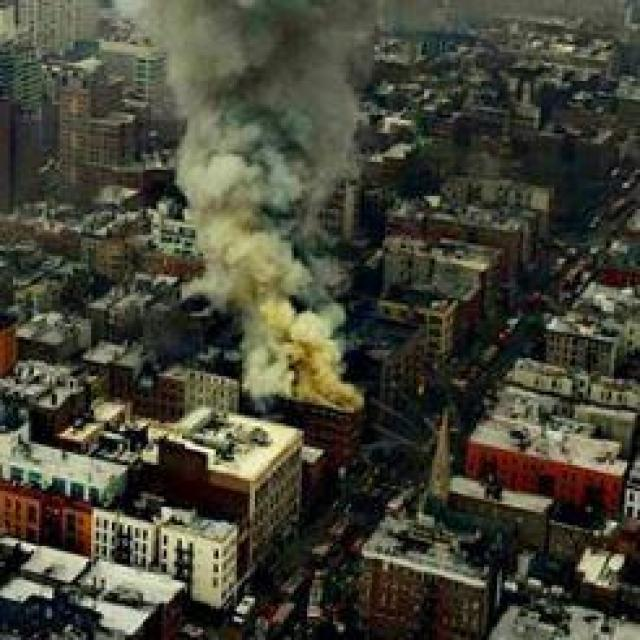Smoke: (153, 0, 424, 415)
